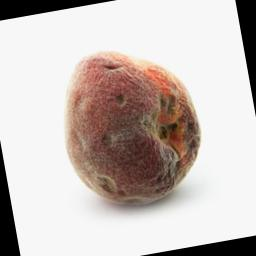Peach Rotten: (40, 34, 214, 218)
